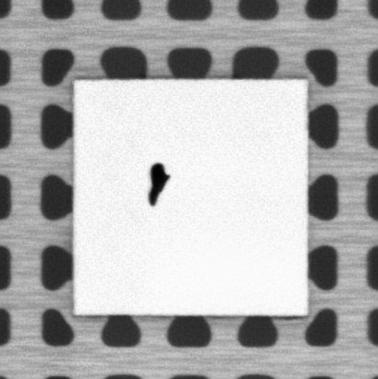DIE_INK: (146, 160, 170, 208)
